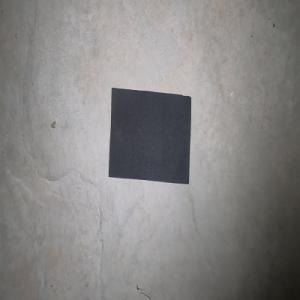PaintChip: (108, 87, 191, 184)
